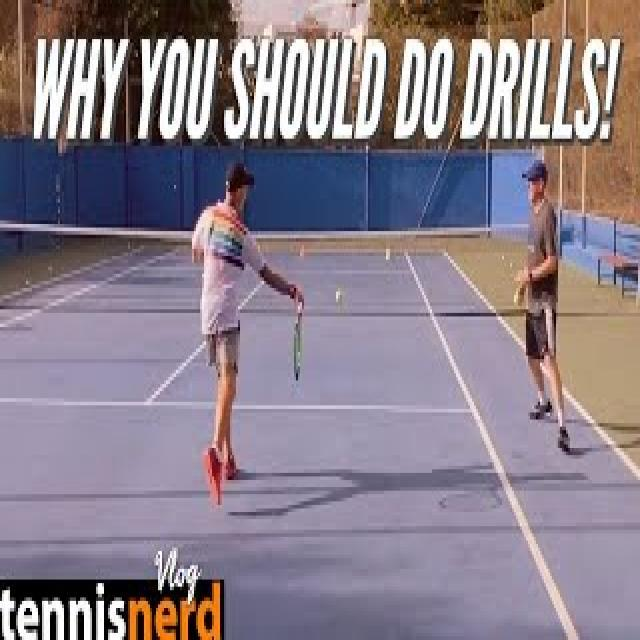player: (185, 160, 312, 512)
